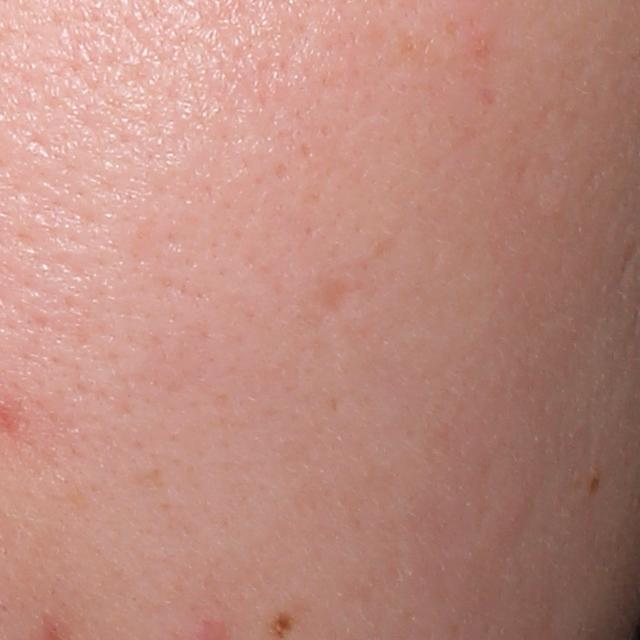nevus: (587, 474, 605, 495)
